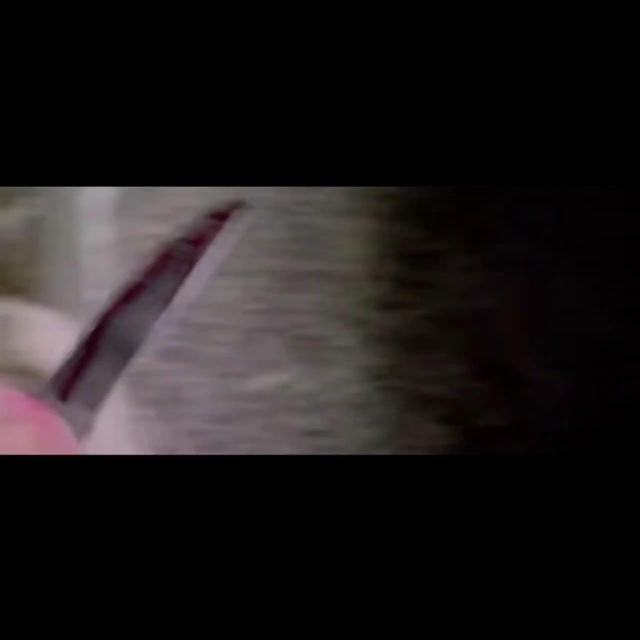blood: (43, 200, 243, 412)
